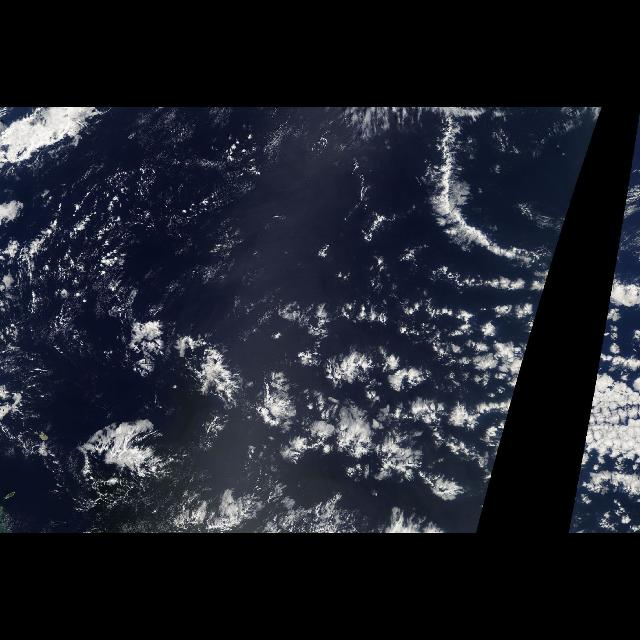Flower: (71, 293, 515, 533)
Gravel: (5, 174, 130, 370)
